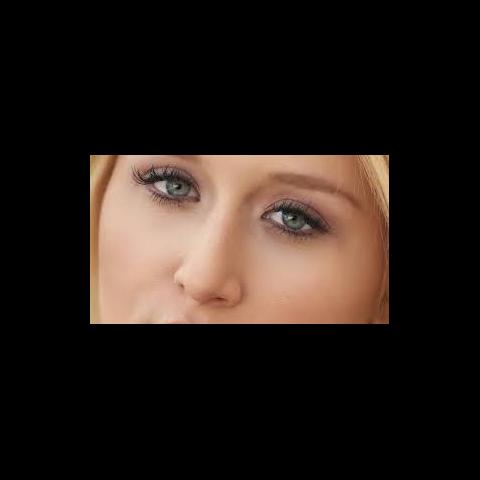opened: (126, 158, 339, 258)
